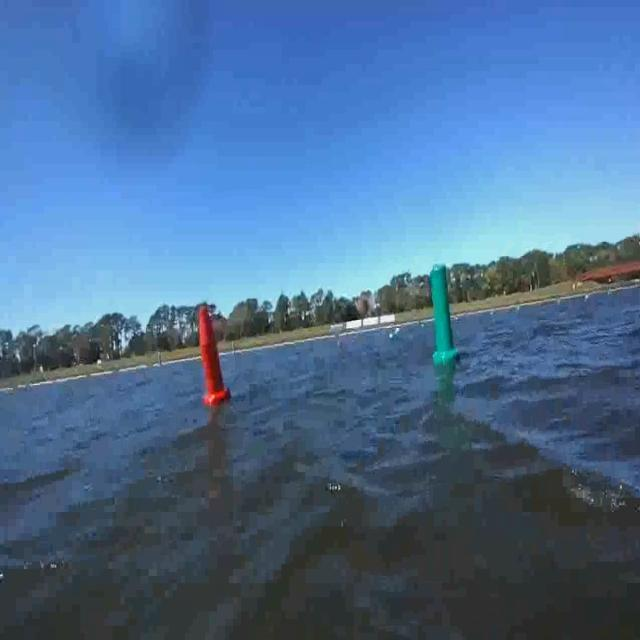green-column-buoy: (428, 262, 459, 364)
red-column-buoy: (198, 304, 231, 406)
